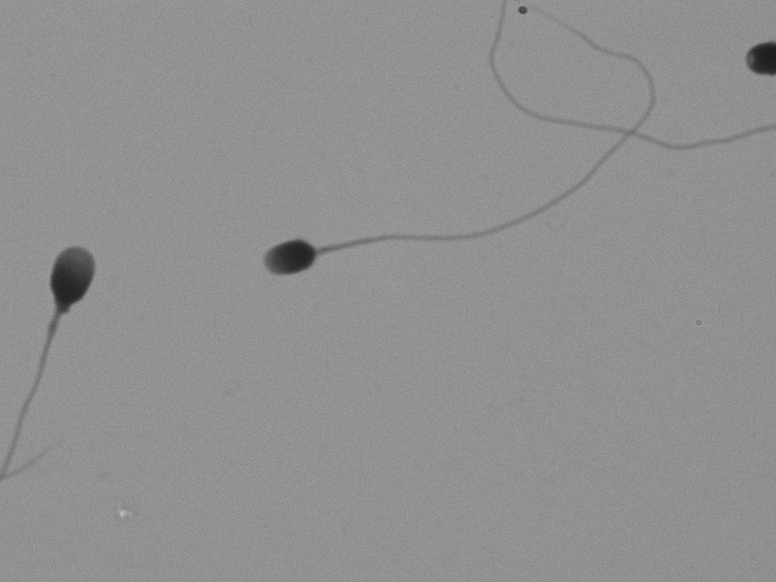Abnormal: (7, 192, 138, 479)
Normal: (207, 82, 647, 357)
